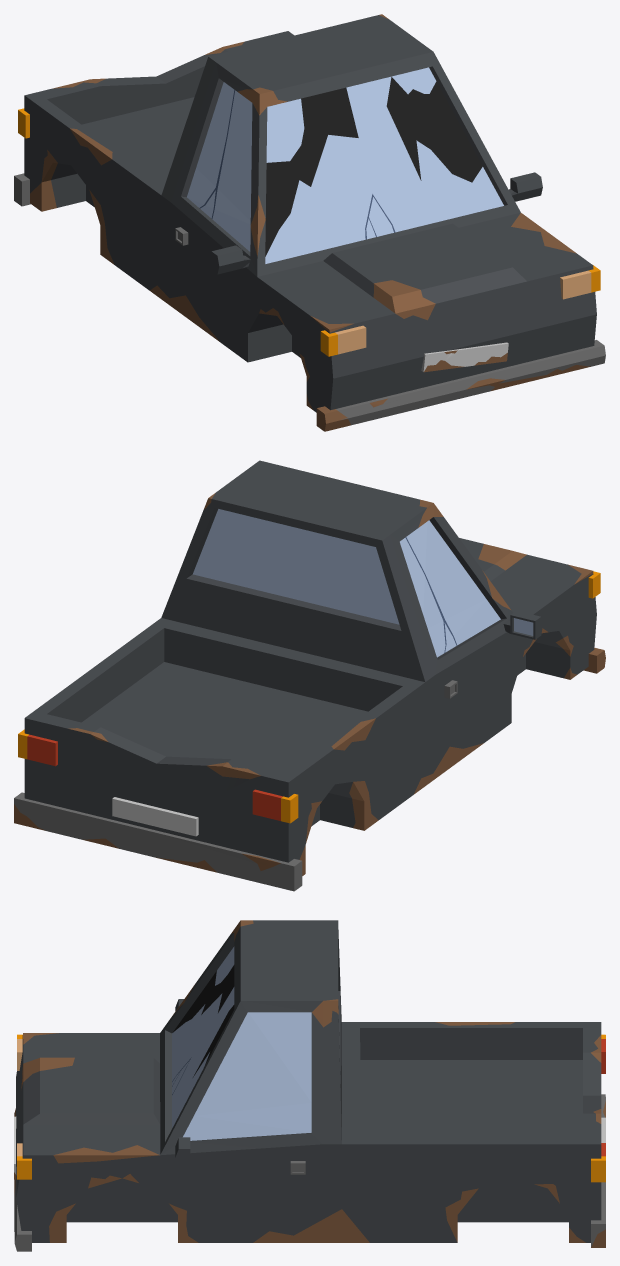
Rendered from OldCar_03.glb.
3 views of the same model, one above another, from view 1: azimuth 30°, elevation 25°; view 2: azimuth 150°, elevation 25°; view 3: azimuth 270°, elevation 25° (orthographic). The views are drawn at different scales.
Visible parts, largest first — view 1: OldCar_03; view 2: OldCar_03; view 3: OldCar_03.
Boxes of the visible parts, left/top/right/bottom form: OldCar_03: left=14, top=14, right=605, bottom=431; OldCar_03: left=14, top=460, right=605, bottom=891; OldCar_03: left=14, top=920, right=605, bottom=1251.
Bounding box in the file's own units: 1.96 × 1.38 × 3.28.
1 material, 1 textured.
